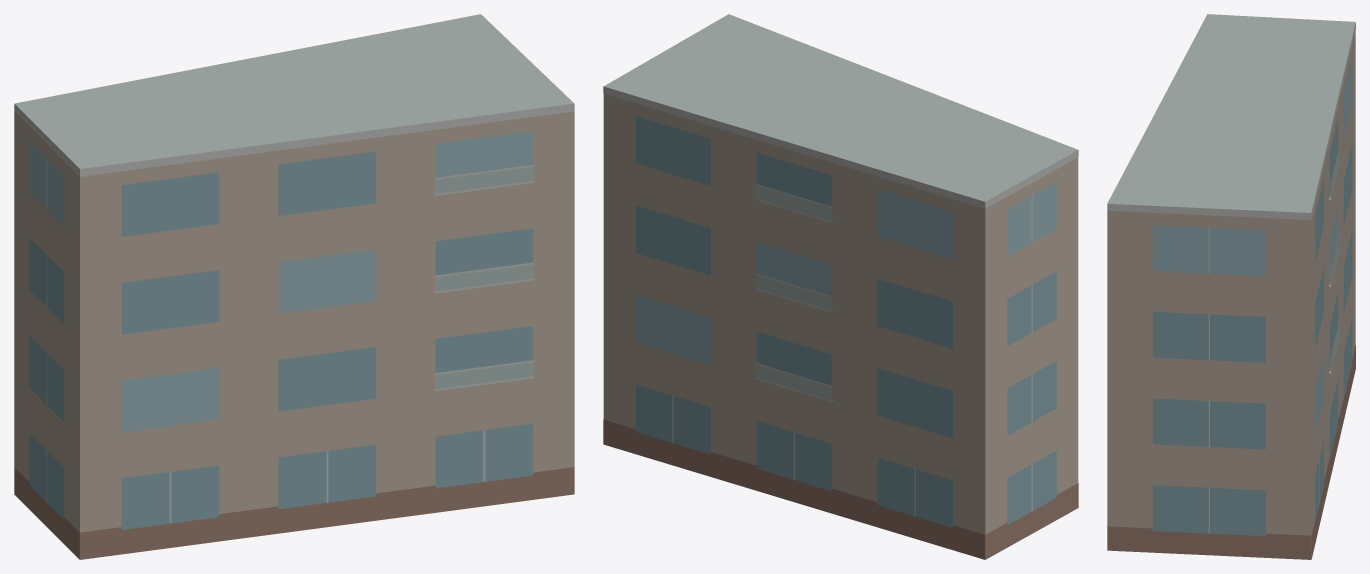
Rendered from residential-be0cba50-44d9-4108-9154-c0ca9a4aad65.glb.
The picture shows the model from 3 angles, left to right: view 1: azimuth 30°, elevation 25°; view 2: azimuth 150°, elevation 25°; view 3: azimuth 270°, elevation 25°; orthographic projection. The views are drawn at different scales.
Parts seen in each view (by area): view 1: residential-be0cba50-44d9-4108-9154-c0ca9a4aad65.tmp; view 2: residential-be0cba50-44d9-4108-9154-c0ca9a4aad65.tmp; view 3: residential-be0cba50-44d9-4108-9154-c0ca9a4aad65.tmp.
Boxes of the visible parts, x1=… form: residential-be0cba50-44d9-4108-9154-c0ca9a4aad65.tmp: x1=14, y1=14, x2=574, y2=559; residential-be0cba50-44d9-4108-9154-c0ca9a4aad65.tmp: x1=603, y1=14, x2=1078, y2=559; residential-be0cba50-44d9-4108-9154-c0ca9a4aad65.tmp: x1=1107, y1=14, x2=1355, y2=559.
Bounding box in the file's own units: 15.03 × 12.2 × 7.94.
